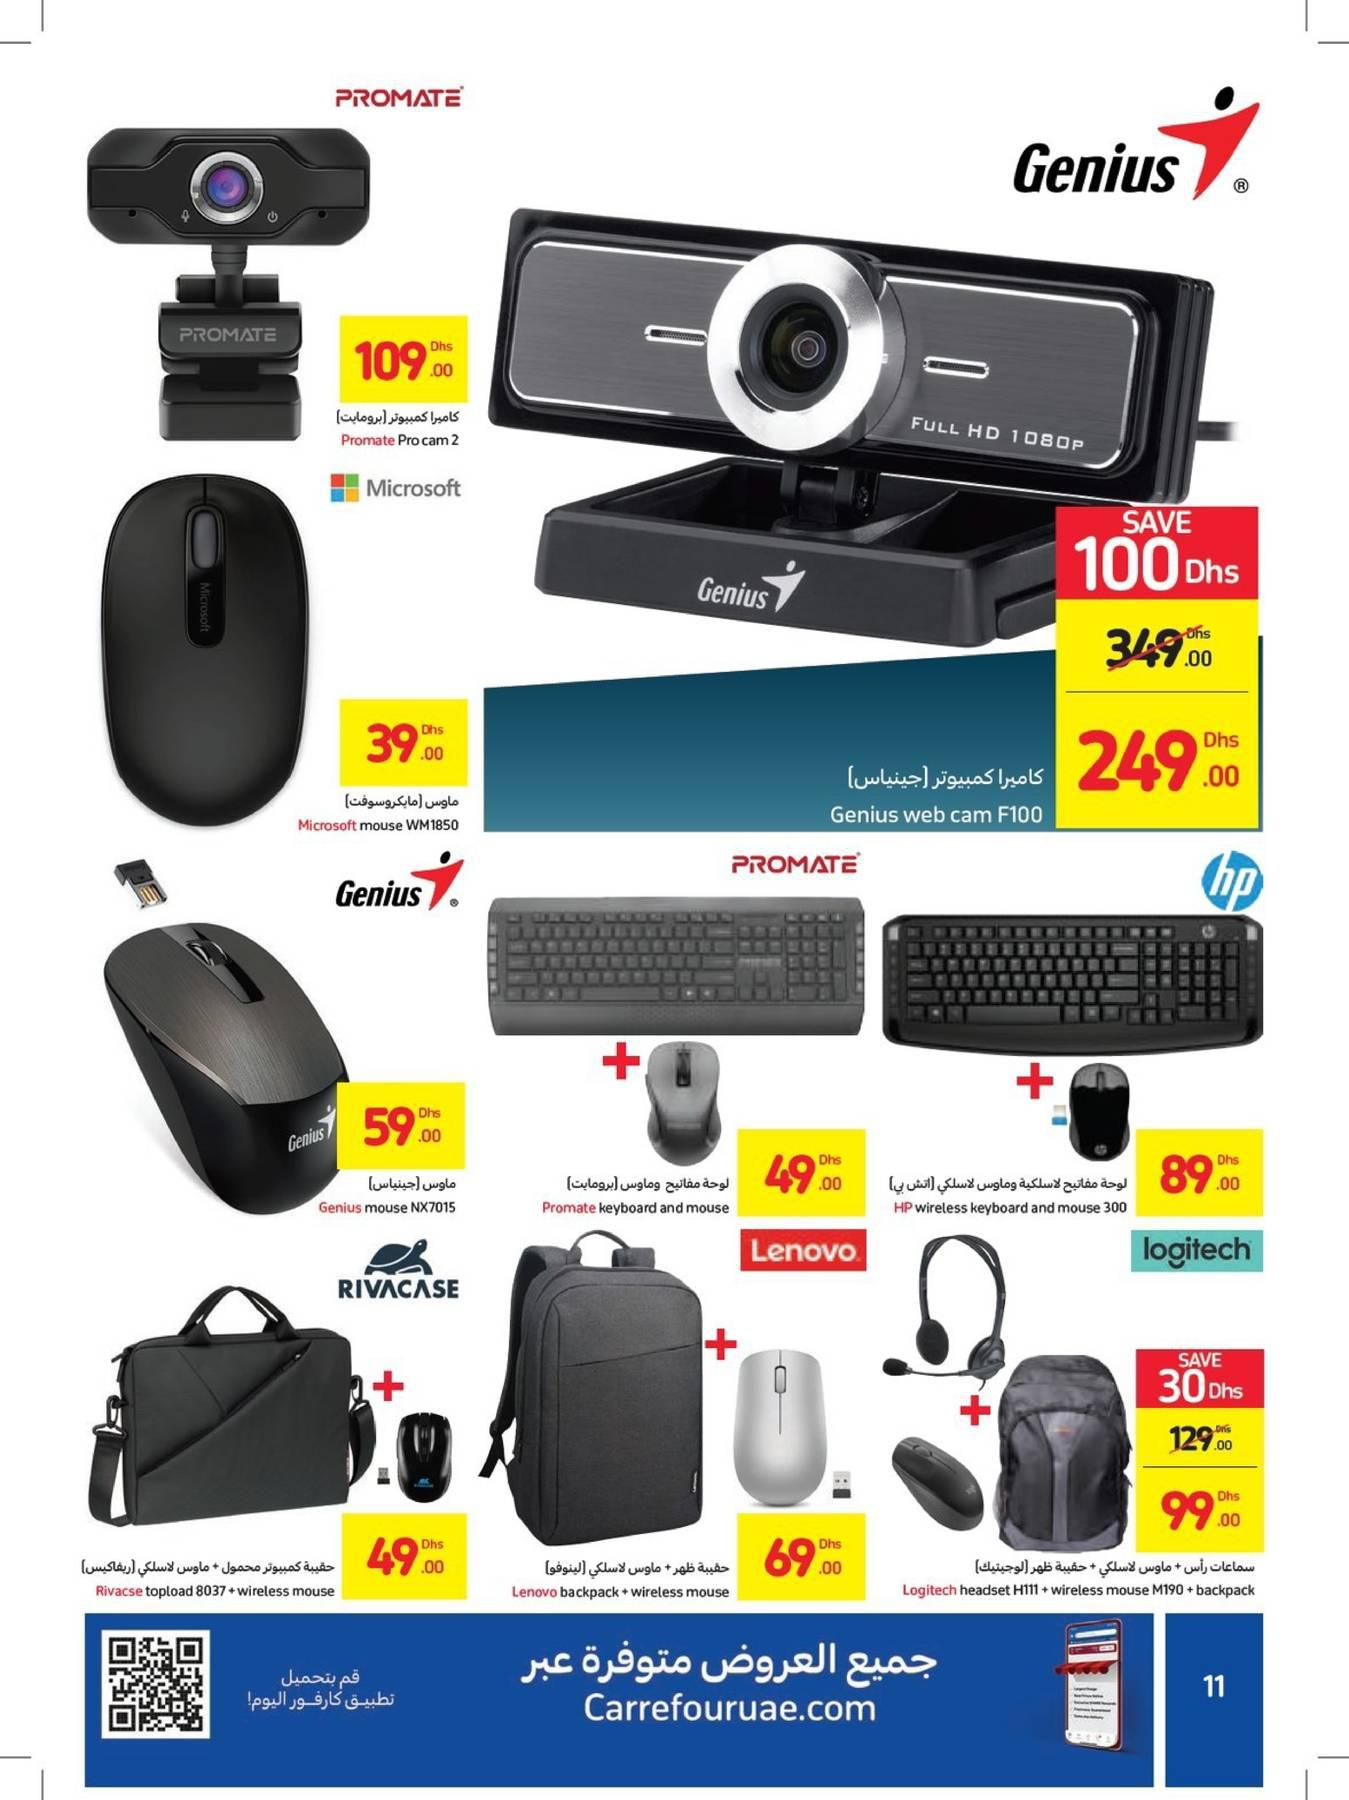text: (896, 1579, 1263, 1606), (966, 1555, 1261, 1585), (86, 1577, 336, 1609), (836, 761, 1049, 794), (823, 797, 1049, 826), (887, 1196, 1134, 1223), (537, 1193, 735, 1226), (883, 1171, 1131, 1196), (71, 1558, 342, 1580), (1134, 1227, 1258, 1270), (504, 1582, 730, 1604), (561, 1171, 733, 1200), (724, 846, 862, 883), (329, 1271, 468, 1307), (531, 1555, 735, 1579), (327, 81, 468, 113), (290, 815, 465, 839), (316, 1198, 468, 1225), (327, 403, 475, 429), (744, 1234, 862, 1267), (330, 877, 427, 914), (363, 473, 476, 505), (332, 429, 475, 454), (334, 791, 468, 812), (361, 1174, 462, 1196)
